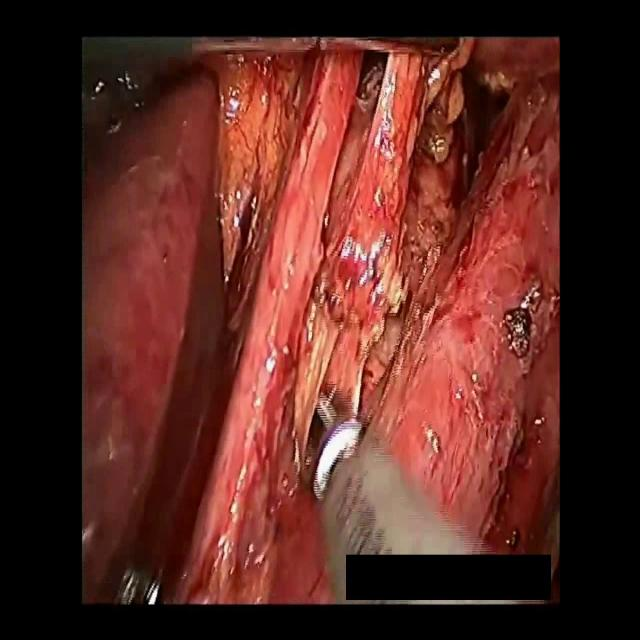surgical-area: (84, 37, 560, 608)
surgical-tool: (310, 392, 504, 605)
